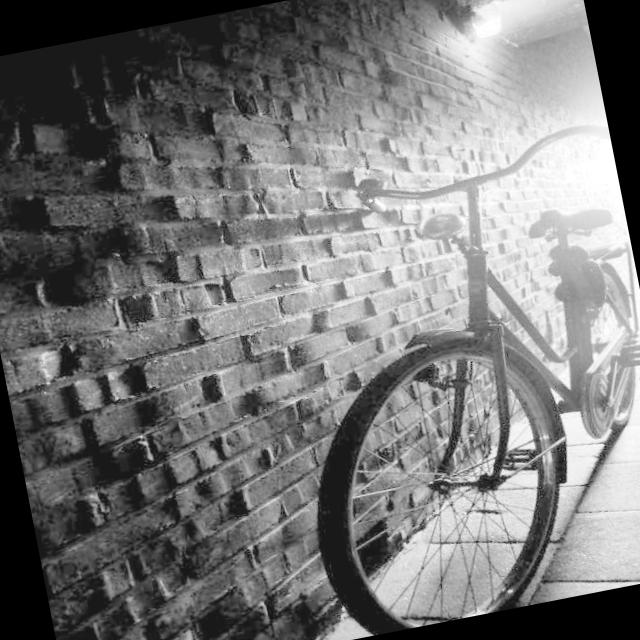Bicycle: (221, 101, 640, 640)
